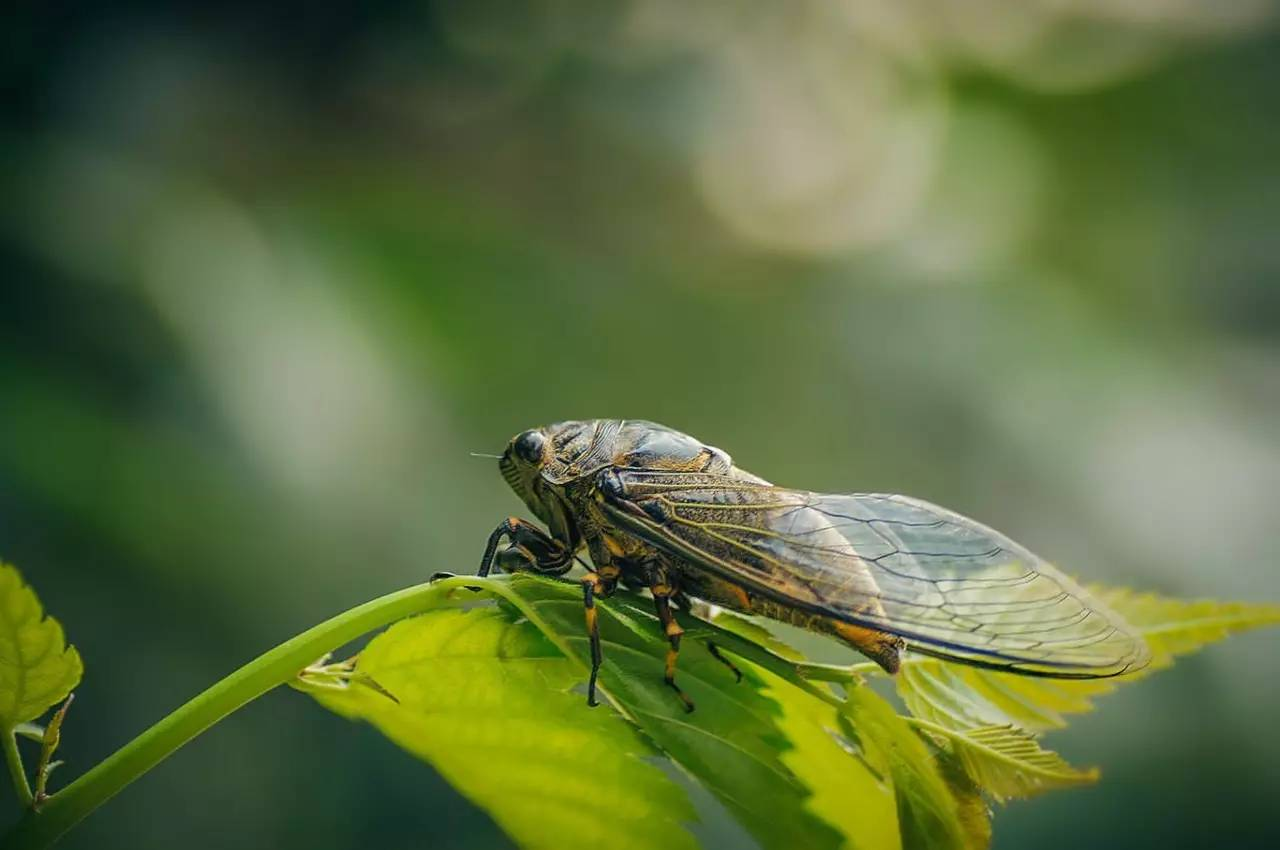chan: (472, 397, 1116, 725)
